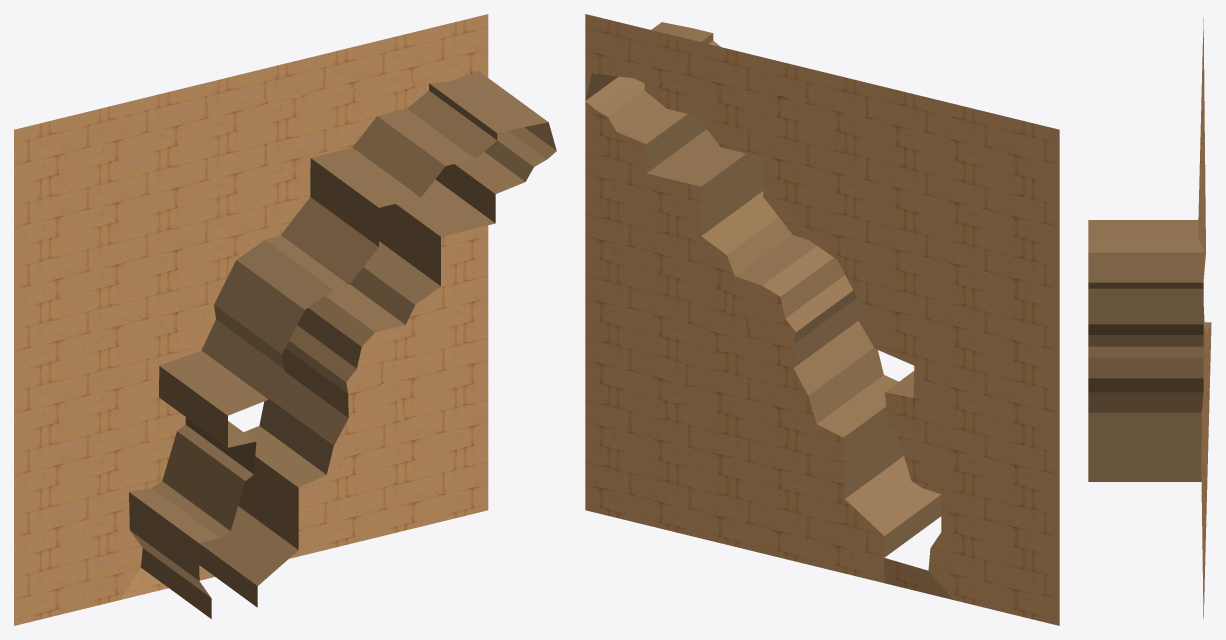
Rendered from Crack_4x4.fbx.
3 views of the same model, side by side, from view 1: azimuth 30°, elevation 25°; view 2: azimuth 150°, elevation 25°; view 3: azimuth 270°, elevation 25° (orthographic). The views are drawn at different scales.
Visible parts, largest first — view 1: Crack_4x4; view 2: Crack_4x4; view 3: Crack_4x4.
Part boxes in pixels (<box>): Crack_4x4: <box>14,14,556,625</box>; Crack_4x4: <box>585,14,1059,625</box>; Crack_4x4: <box>1088,18,1211,619</box>.
Size of the model in its own units: 400 by 400 by 107.
